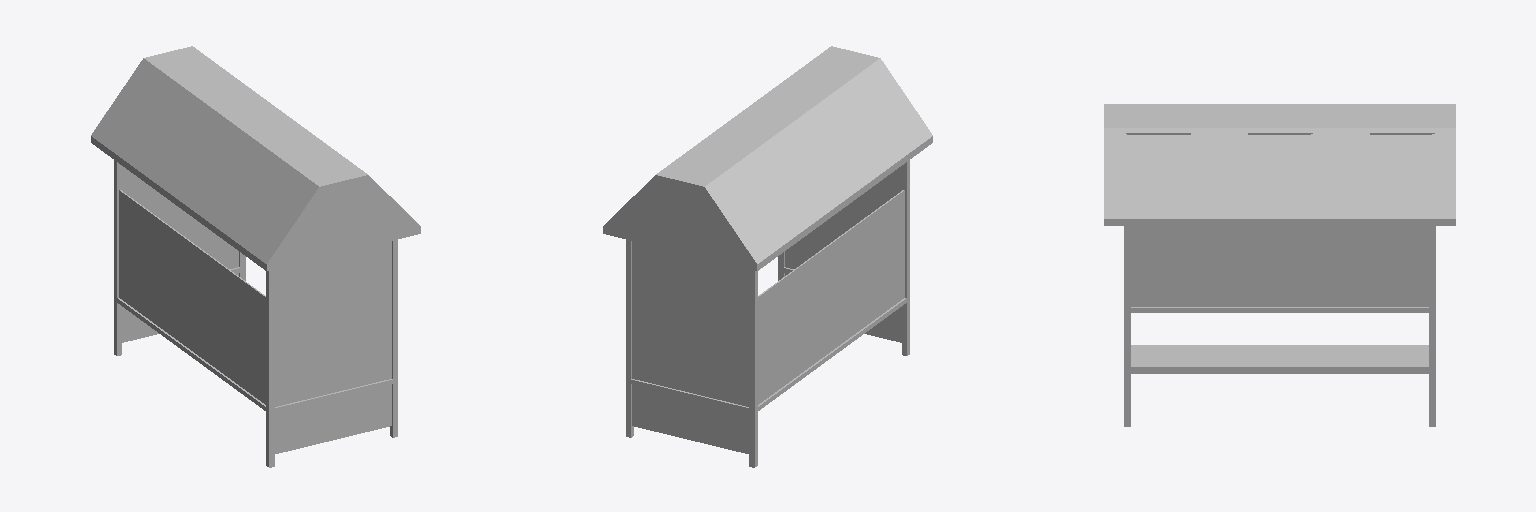
The model's file is BusStop.obj.
3 views of the same model, side by side, from view 1: azimuth 30°, elevation 25°; view 2: azimuth 150°, elevation 25°; view 3: azimuth 270°, elevation 25° (orthographic).
Visible parts, largest first — view 1: Cube.016, Cube.011, Cube.004, Cube.014; view 2: Cube.016, Cube.011, Cube.004, Cube.014; view 3: Cube.016, Cube.011, Cube.014, Cube.004.
Part boxes in pixels (x1,y1,x2,y2): Cube.016: (91, 46, 420, 270); Cube.011: (119, 166, 391, 406); Cube.004: (114, 160, 397, 467); Cube.014: (122, 273, 391, 453); Cube.016: (603, 46, 932, 270); Cube.011: (632, 166, 904, 406); Cube.004: (626, 160, 909, 467); Cube.014: (632, 273, 901, 453); Cube.016: (1104, 104, 1455, 225); Cube.011: (1131, 226, 1428, 306); Cube.014: (1131, 345, 1428, 373); Cube.004: (1124, 226, 1435, 426).
Bounding box in the file's own units: 8.79 × 15.15 × 17.31.